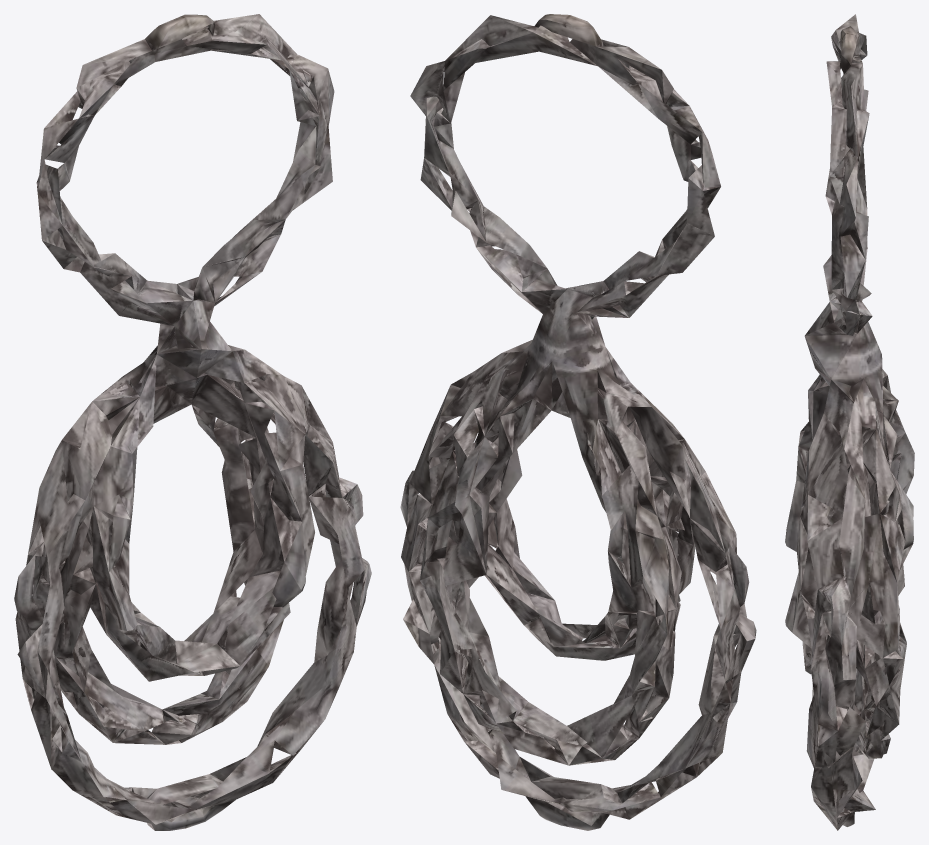
Rendered from lasso.glb.
3 renders of one model, left to right at view 1: azimuth 30°, elevation 25°; view 2: azimuth 150°, elevation 25°; view 3: azimuth 270°, elevation 25°, orthographic. The views are drawn at different scales.
Visible parts, largest first — view 1: Mesh_0; view 2: Mesh_0; view 3: Mesh_0.
Part boxes in pixels (x1,y1,x2,y2): Mesh_0: [14, 14, 371, 830]; Mesh_0: [400, 14, 756, 830]; Mesh_0: [785, 14, 914, 830].
Bounding box in the file's own units: 0.8615 × 1.9 × 0.2843.
Materials: 1 (1 with a texture image).
